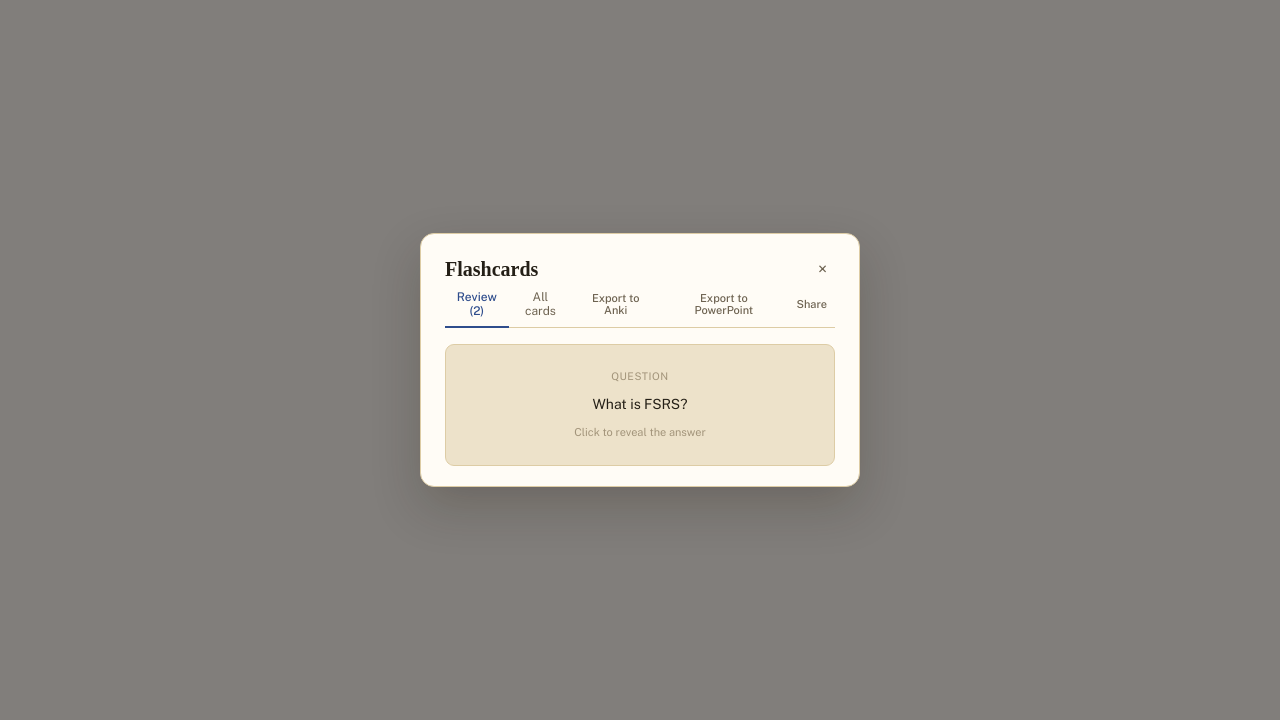
Test case: FlashcardsPanel › shows the front of the first due card, then the back on click, then rating buttons
Expected: the button "good" is not shown
Click the text "What is FSRS?" at x=640, y=405, box top-left (592, 393), bottom-right (688, 416)
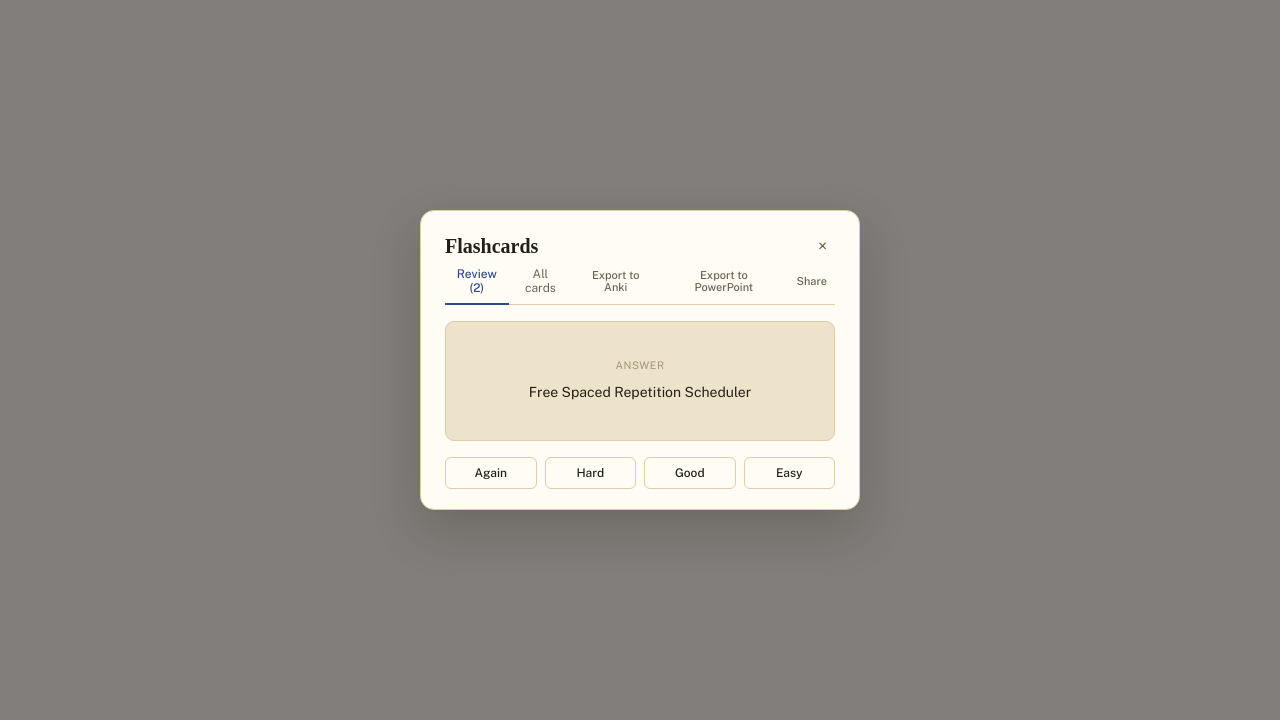
Result: the text "Free Spaced Repetition Scheduler" is shown at top-left (529, 381), bottom-right (751, 404)
Result: the button "Again" is shown at top-left (445, 457), bottom-right (536, 489)
Result: the button "Hard" is shown at top-left (544, 457), bottom-right (636, 489)
